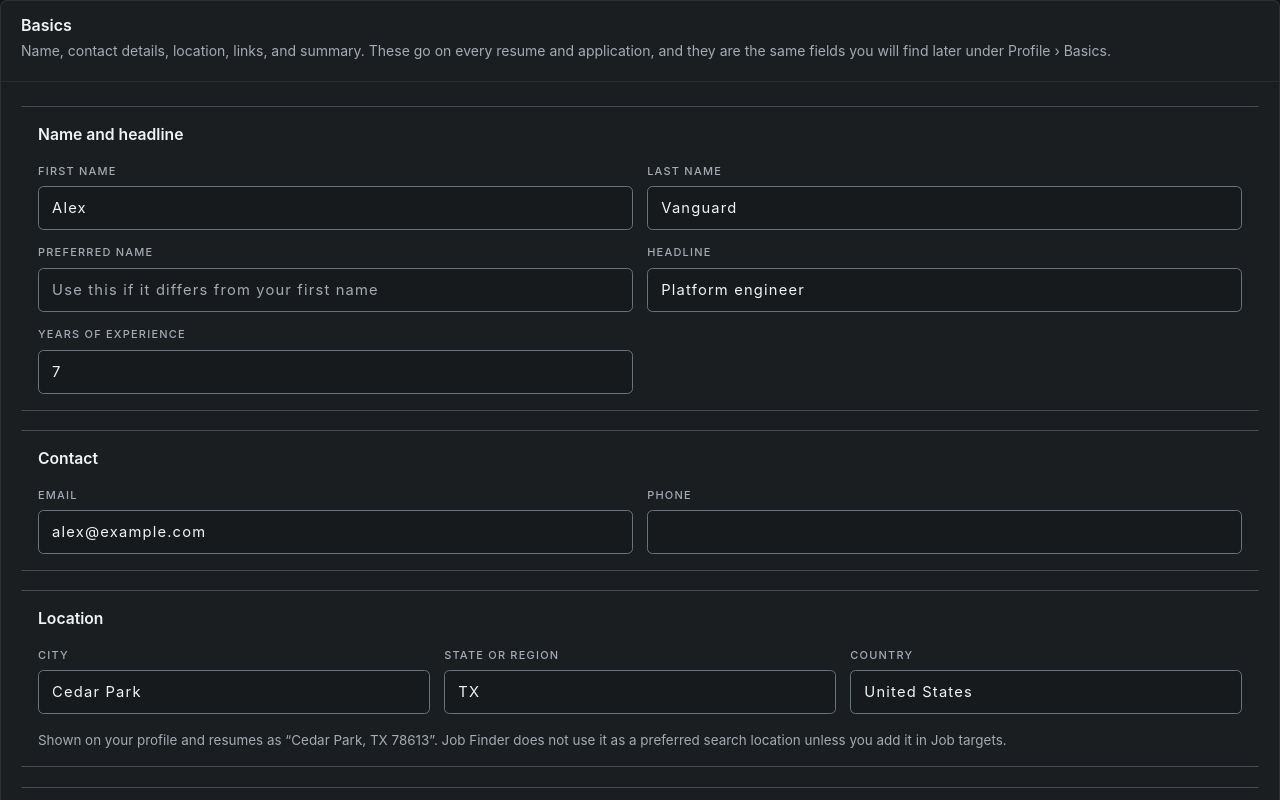
Test case: shared profile Basics field list › derives the displayed location instead of editing it as a fourth field
Replace the text in the field labelled "City" with "Austin" at (234, 692), box left=38, top=670, right=430, bottom=714
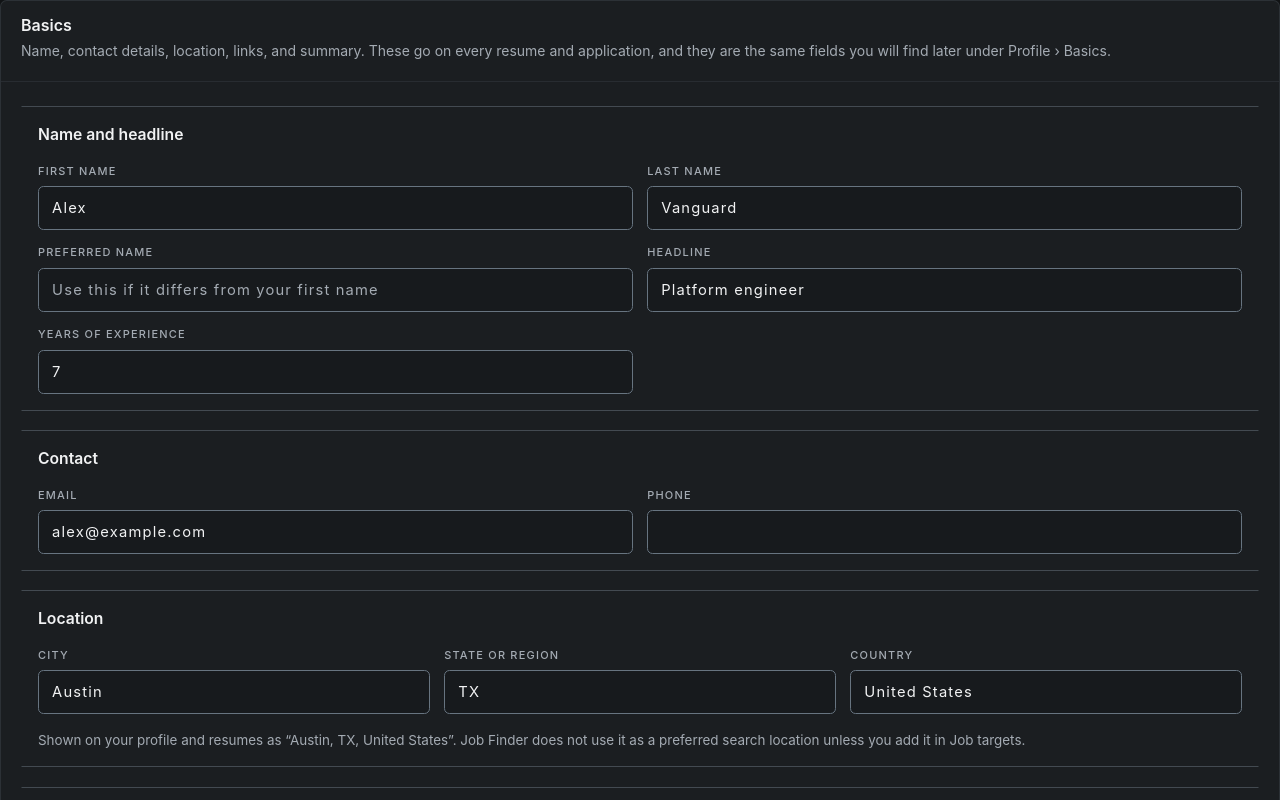
Now the text "Austin, TX, United States" is shown, box left=38, top=732, right=1025, bottom=748
Now the text "Cedar Park, TX 78613" is gone
